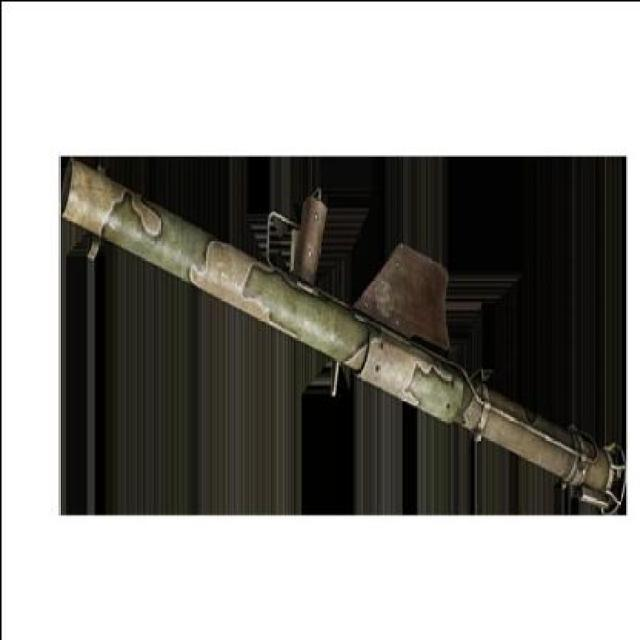weapon: (60, 154, 624, 514)
